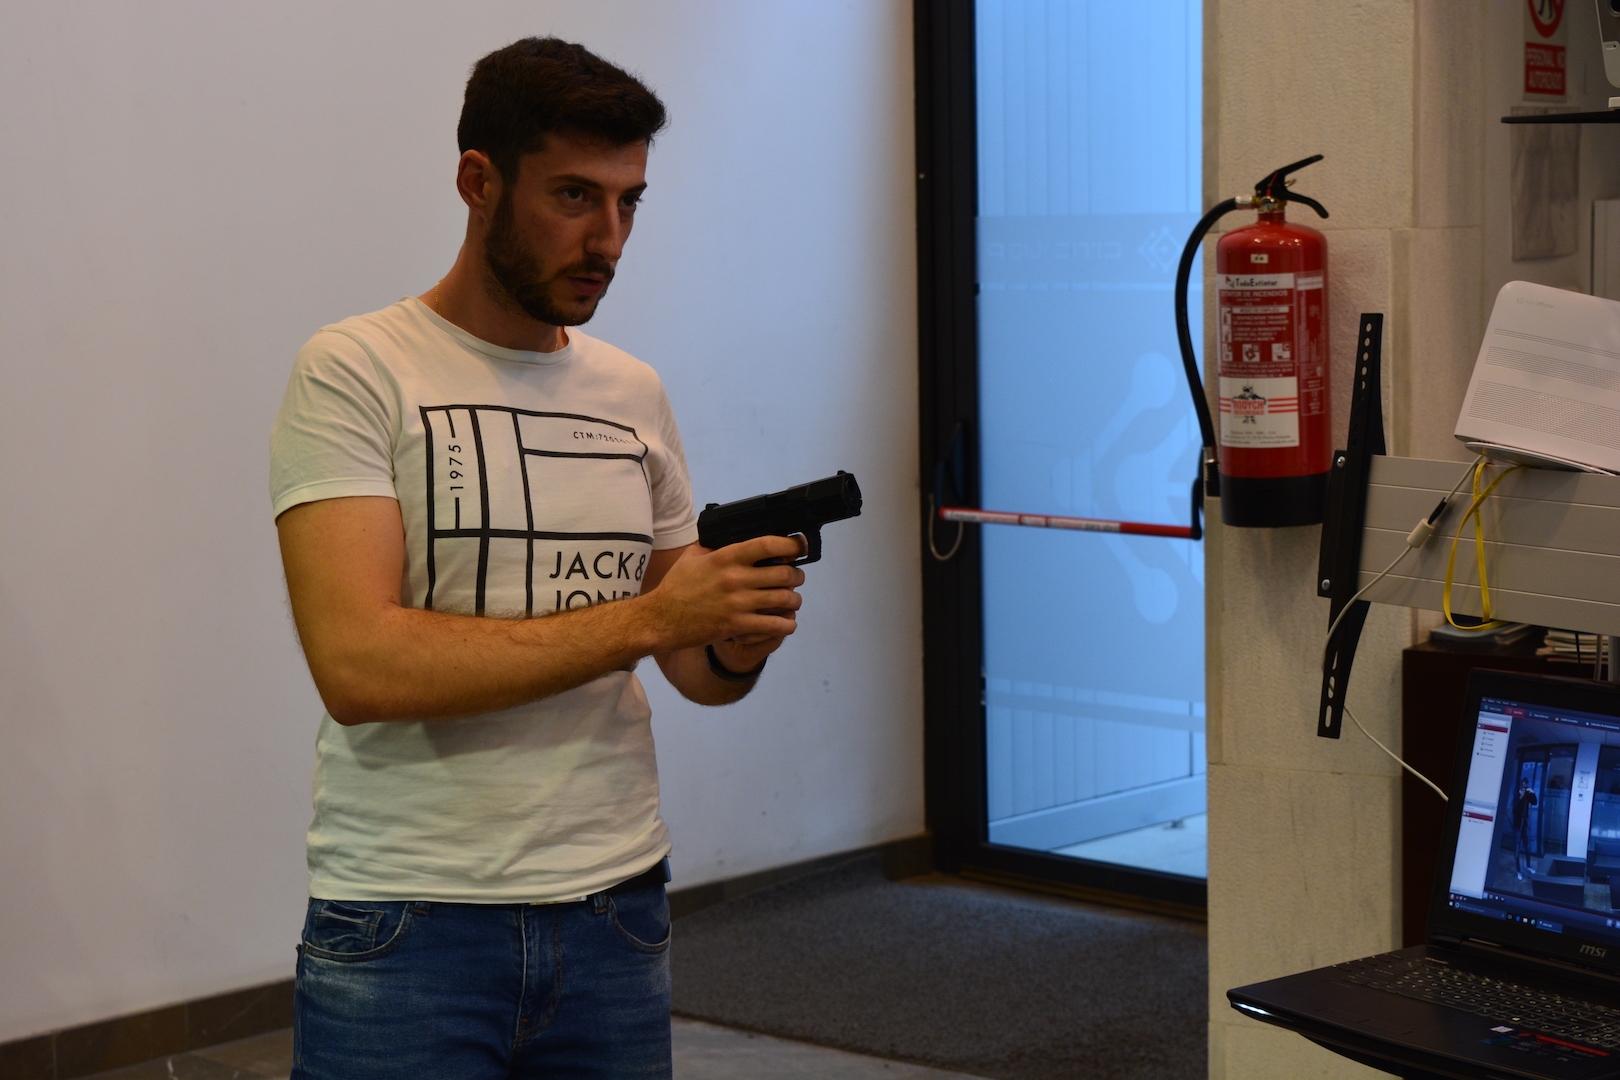pistol: (697, 469, 864, 642)
